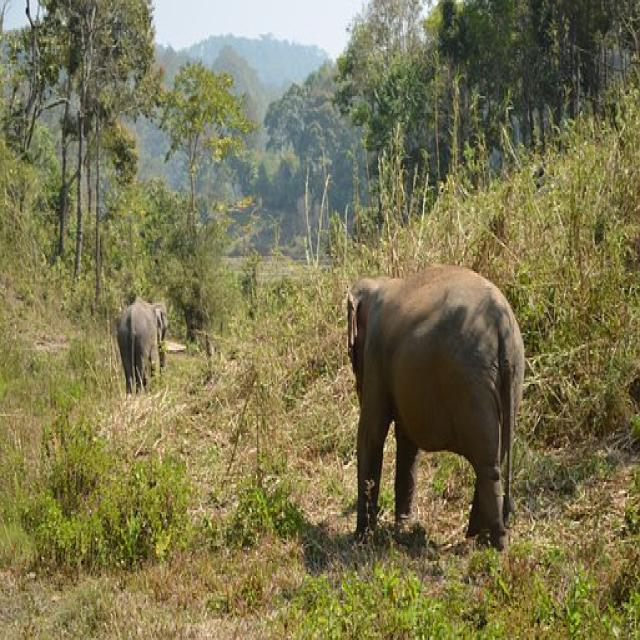Elephant: (323, 235, 539, 614), (74, 252, 204, 462)
